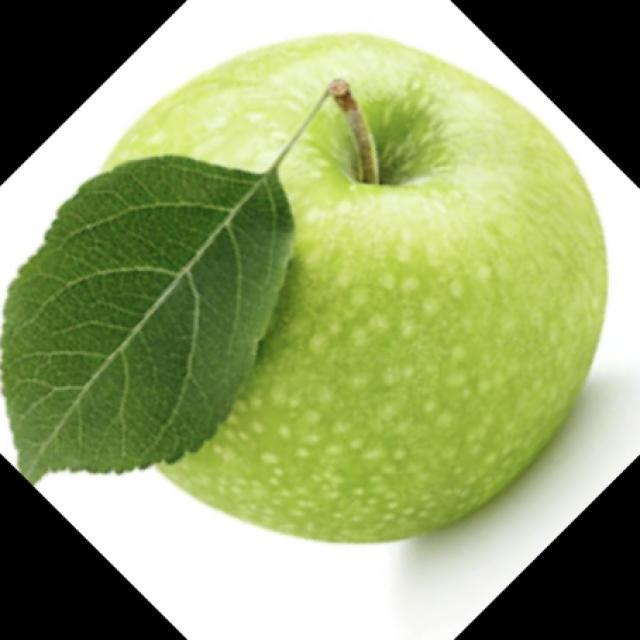Fresh Apple: (118, 43, 600, 532)
